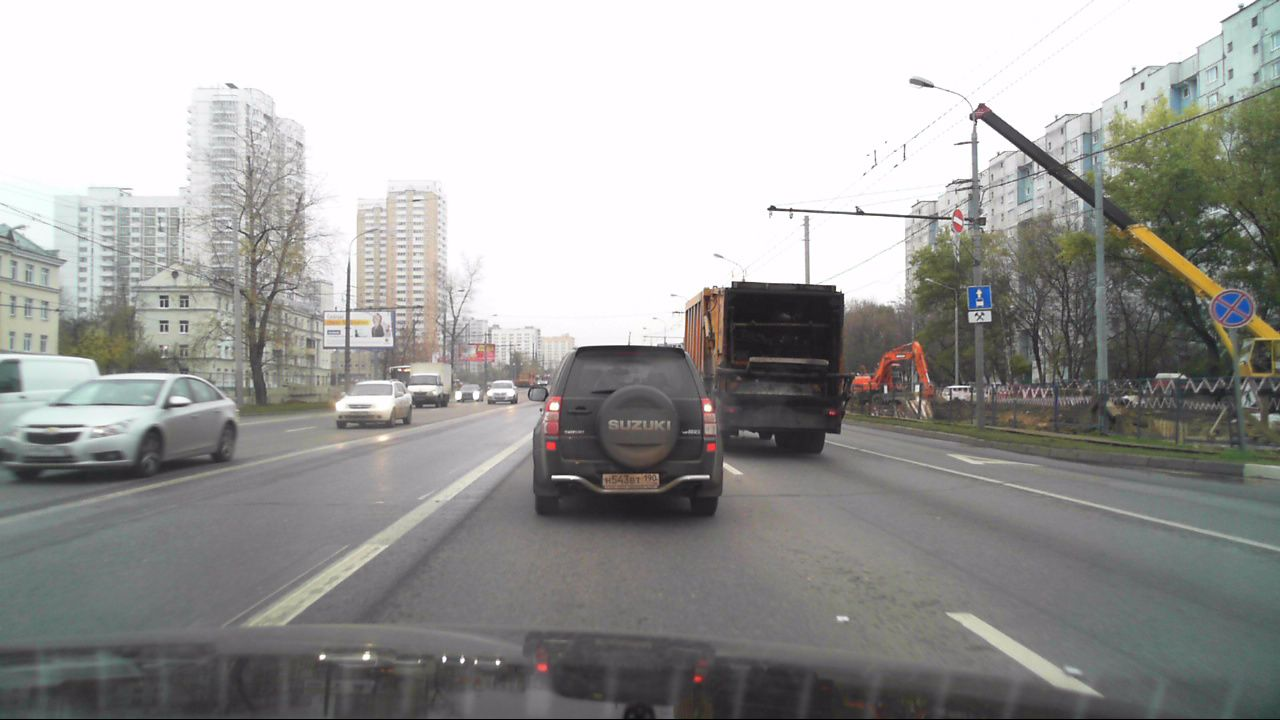No Parking: (1212, 291, 1255, 329)
